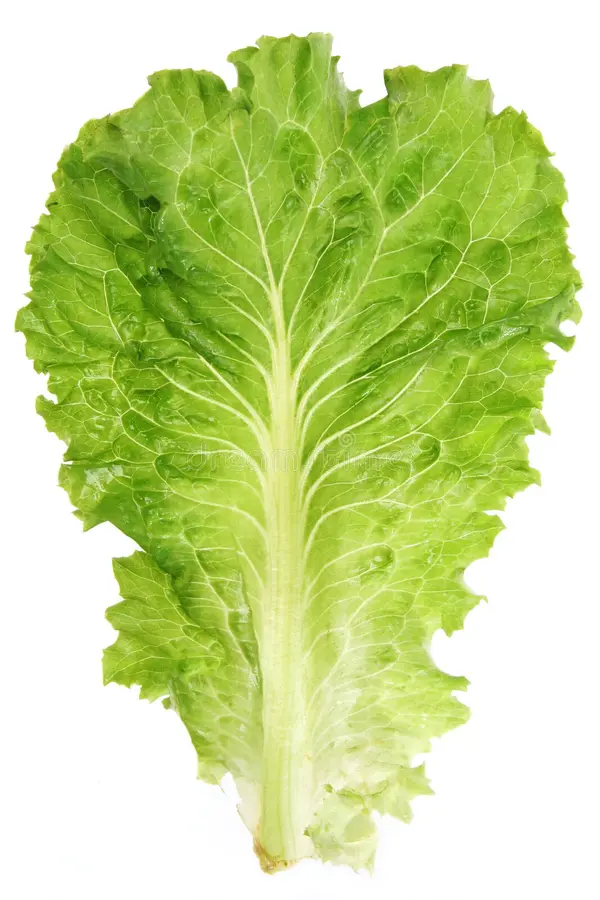lettuce: (24, 12, 558, 882)
